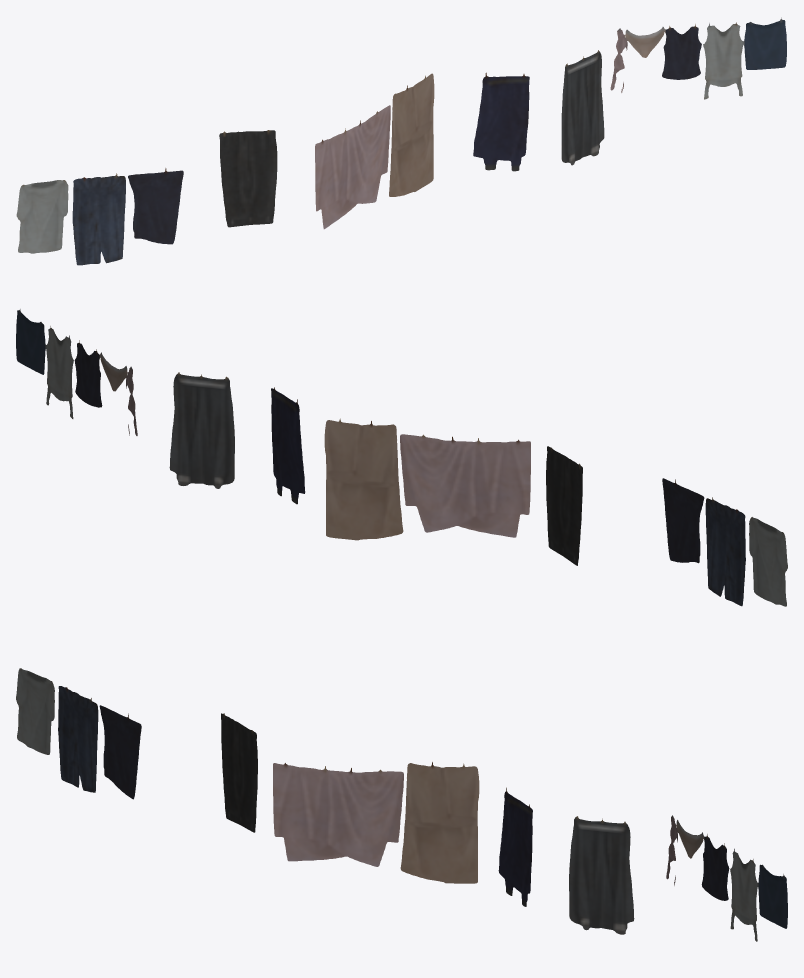
File: Laundry_Collection_A_AnimSupport.FBX
The picture shows the model from 3 angles, top to bottom: view 1: azimuth 30°, elevation 25°; view 2: azimuth 150°, elevation 25°; view 3: azimuth 330°, elevation 25°; orthographic projection. The views are drawn at different scales.
Visible parts, largest first — view 1: Geometry_Laundry_Collection_A_LOD00; view 2: Geometry_Laundry_Collection_A_LOD00; view 3: Geometry_Laundry_Collection_A_LOD00.
Boxes of the visible parts, x1,y1,x2,y2 form: Geometry_Laundry_Collection_A_LOD00: [16, 17, 786, 265]; Geometry_Laundry_Collection_A_LOD00: [16, 309, 787, 606]; Geometry_Laundry_Collection_A_LOD00: [16, 668, 787, 941].
Size of the model in its own units: 965 by 147 by 81.84.
1 material, 1 textured.
